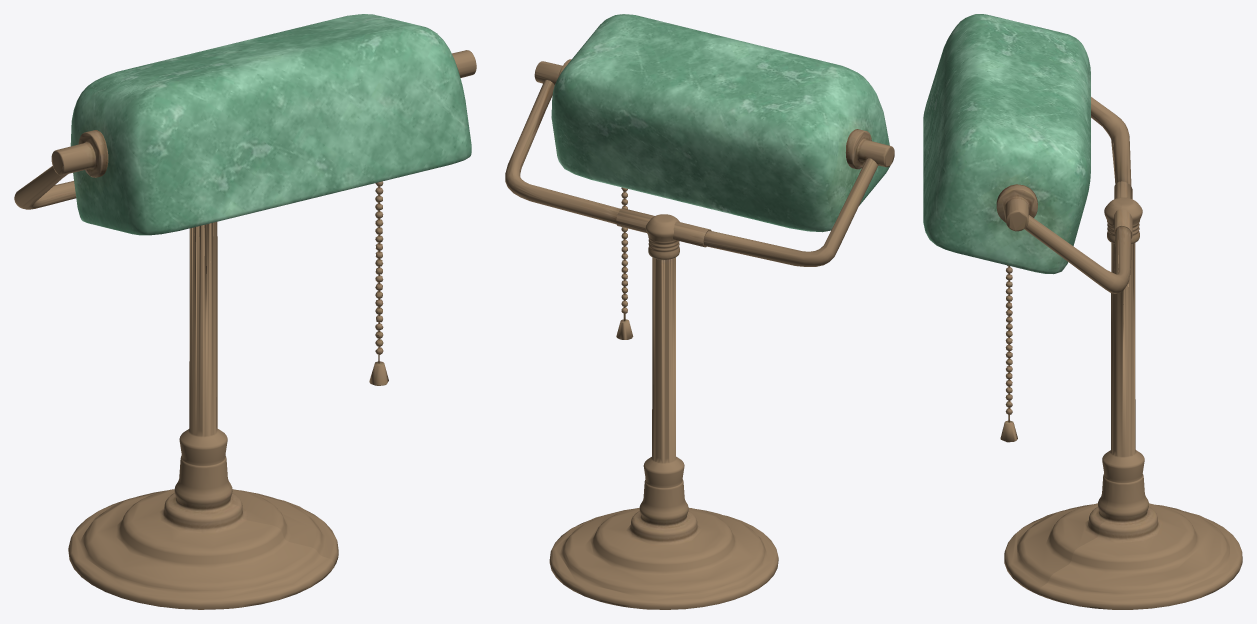
The model's file is mdl_hub_vintagedesklamp.gltf.
The picture shows the model from 3 angles, left to right: view 1: azimuth 30°, elevation 25°; view 2: azimuth 150°, elevation 25°; view 3: azimuth 270°, elevation 25°; orthographic projection. The views are drawn at different scales.
Parts seen in each view (by area): view 1: pCube1, pCylinder1, pCylinder5, pCylinder4, vintage_lamp_chain:pCylinder2; view 2: pCube1, pCylinder1, pCylinder4, pCylinder5, vintage_lamp_chain:pCylinder2; view 3: pCube1, pCylinder1, pCylinder4, pCylinder5, vintage_lamp_chain:pCylinder2.
Part boxes in pixels (<box>): pCube1: <box>70,14,471,235</box>; pCylinder1: <box>68,222,338,609</box>; pCylinder5: <box>51,50,476,177</box>; pCylinder4: <box>14,165,76,209</box>; vintage_lamp_chain:pCylinder2: <box>369,181,388,385</box>; pCube1: <box>551,14,889,232</box>; pCylinder1: <box>549,214,778,609</box>; pCylinder4: <box>505,80,878,266</box>; pCylinder5: <box>534,59,894,169</box>; vintage_lamp_chain:pCylinder2: <box>616,187,633,339</box>; pCube1: <box>923,14,1090,274</box>; pCylinder1: <box>1004,197,1242,609</box>; pCylinder4: <box>1024,97,1132,293</box>; pCylinder5: <box>996,184,1037,231</box>; vintage_lamp_chain:pCylinder2: <box>1000,265,1017,442</box>.
Bounding box in the file's own units: 1.56 × 2 × 1.18.
Materials: 1 (1 with a texture image).
